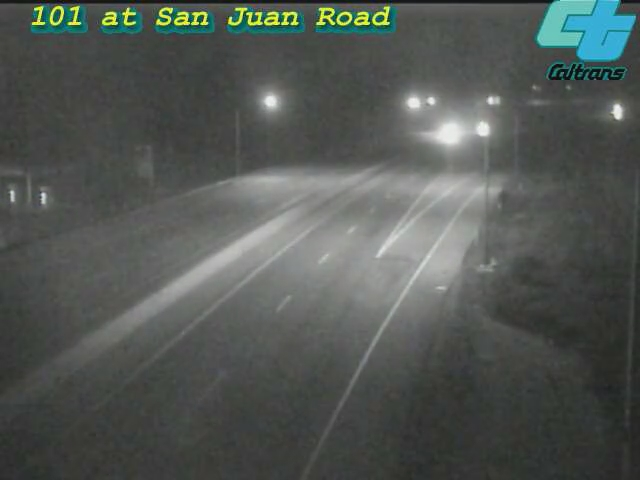vehicle: (425, 109, 475, 159), (458, 104, 508, 154), (591, 87, 640, 137)
